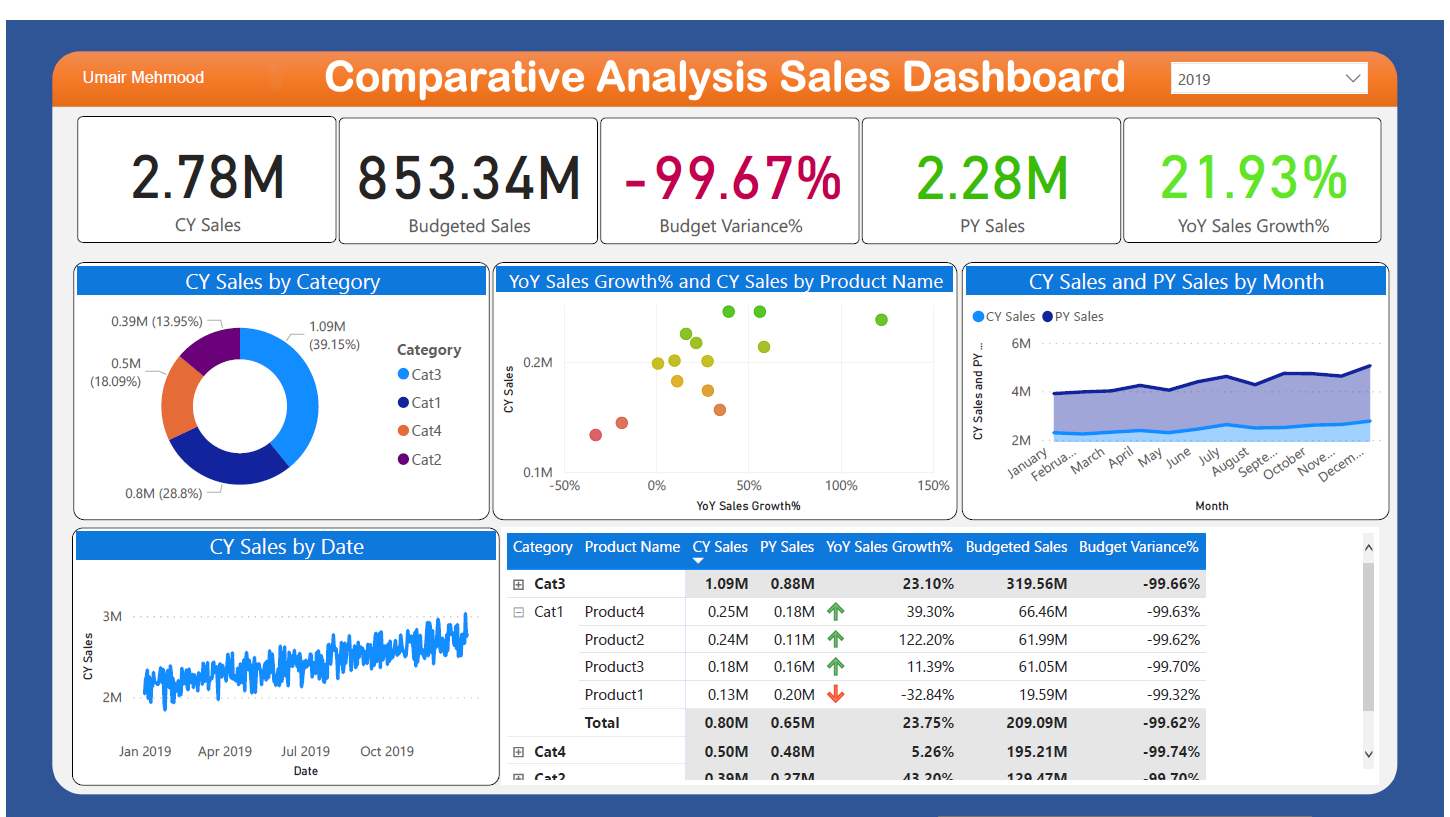

Layout of this report page (visuals, bound fields, positions):
{"tool":"powerbi","page":{"name":"Dashboard","canvas":[1280,720],"ordinal":0},"visuals":[{"type":"card","fields":{"Values":["Sales.PY Sales"]},"box":[761.6,86.8,230.8,112.6],"z":0,"group":"g1"},{"type":"group","id":"g1","title":"Group 1","box":[63.5,86,1161.8,113.4],"z":0},{"type":"card","fields":{"Values":["Sales.Budget Variance%"]},"box":[528.9,86.8,230.8,112.6],"z":1000,"group":"g1"},{"type":"slicer","fields":{"Values":["Date Dim.Year","Date Dim.Qtr","Date Dim.Month"]},"box":[1026.9,28.7,194.6,58.5],"z":1000},{"type":"card","fields":{"Values":["Sales.CY Sales"]},"box":[63.5,86,230.8,112.6],"z":2000,"group":"g1"},{"type":"donutChart","fields":{"Category":["Product Master.Category"],"Y":["Sales.CY Sales"]},"box":[59.7,214.9,371.3,230.4],"z":2000},{"type":"card","fields":{"Values":["Sales.Budgeted Sales"]},"box":[296.2,86.8,230.8,112.6],"z":3000,"group":"g1"},{"type":"scatterChart","fields":{"Y":["Sales.CY Sales"],"X":["Sales.YoY Sales Growth%"],"Category":["Product Master.Product Name"]},"box":[433.4,214.9,414.3,230.4],"z":3000},{"type":"card","fields":{"Values":["Sales.YoY Sales Growth%"]},"box":[994.8,87.4,230.4,112],"z":4000,"group":"g1"},{"type":"stackedAreaChart","fields":{"Y":["Sales.CY Sales","Sales.PY Sales"],"Category":["Date Dim.Month"]},"box":[850.1,214.9,380.9,230.4],"z":4000},{"type":"lineChart","fields":{"Category":["Date Dim.Date"],"Y":["Sales.CY Sales"]},"box":[58.5,451.3,380.9,230.4],"z":5000},{"type":"pivotTable","fields":{"Rows":["Product Master.Category","Product Master.Product Name"],"Values":["Sales.CY Sales","Sales.PY Sales","Sales.YoY Sales Growth%","Sales.Budgeted Sales","Sales.Budget Variance%"]},"box":[440.6,451.3,780.9,229.3],"z":6000},{"type":"textbox","box":[63.3,37,186.3,31],"z":6001}]}

Visuals, with their boxes in screenshot pixels (x1, y1, x2, y2), scaled from the page's 1280x720 canvas onto the 1450x817 screenshot:
card - Sales.PY Sales: {"left": 863, "top": 98, "right": 1124, "bottom": 226}
"Group 1" group: {"left": 72, "top": 98, "right": 1388, "bottom": 226}
card - Sales.Budget Variance%: {"left": 599, "top": 98, "right": 861, "bottom": 226}
slicer - Date Dim.Year x Date Dim.Qtr: {"left": 1163, "top": 33, "right": 1384, "bottom": 99}
card - Sales.CY Sales: {"left": 72, "top": 98, "right": 333, "bottom": 225}
donutChart - Product Master.Category x Sales.CY Sales: {"left": 68, "top": 244, "right": 488, "bottom": 505}
card - Sales.Budgeted Sales: {"left": 336, "top": 98, "right": 597, "bottom": 226}
scatterChart - Sales.CY Sales x Sales.YoY Sales Growth%: {"left": 491, "top": 244, "right": 960, "bottom": 505}
card - Sales.YoY Sales Growth%: {"left": 1127, "top": 99, "right": 1388, "bottom": 226}
stackedAreaChart - Sales.CY Sales x Sales.PY Sales: {"left": 963, "top": 244, "right": 1394, "bottom": 505}
lineChart - Date Dim.Date x Sales.CY Sales: {"left": 66, "top": 512, "right": 498, "bottom": 774}
pivotTable - Product Master.Category x Product Master.Product Name: {"left": 499, "top": 512, "right": 1384, "bottom": 772}
textbox: {"left": 72, "top": 42, "right": 283, "bottom": 77}
